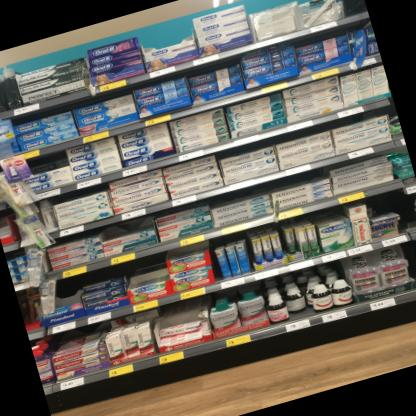empty_space: (402, 236, 416, 290)
